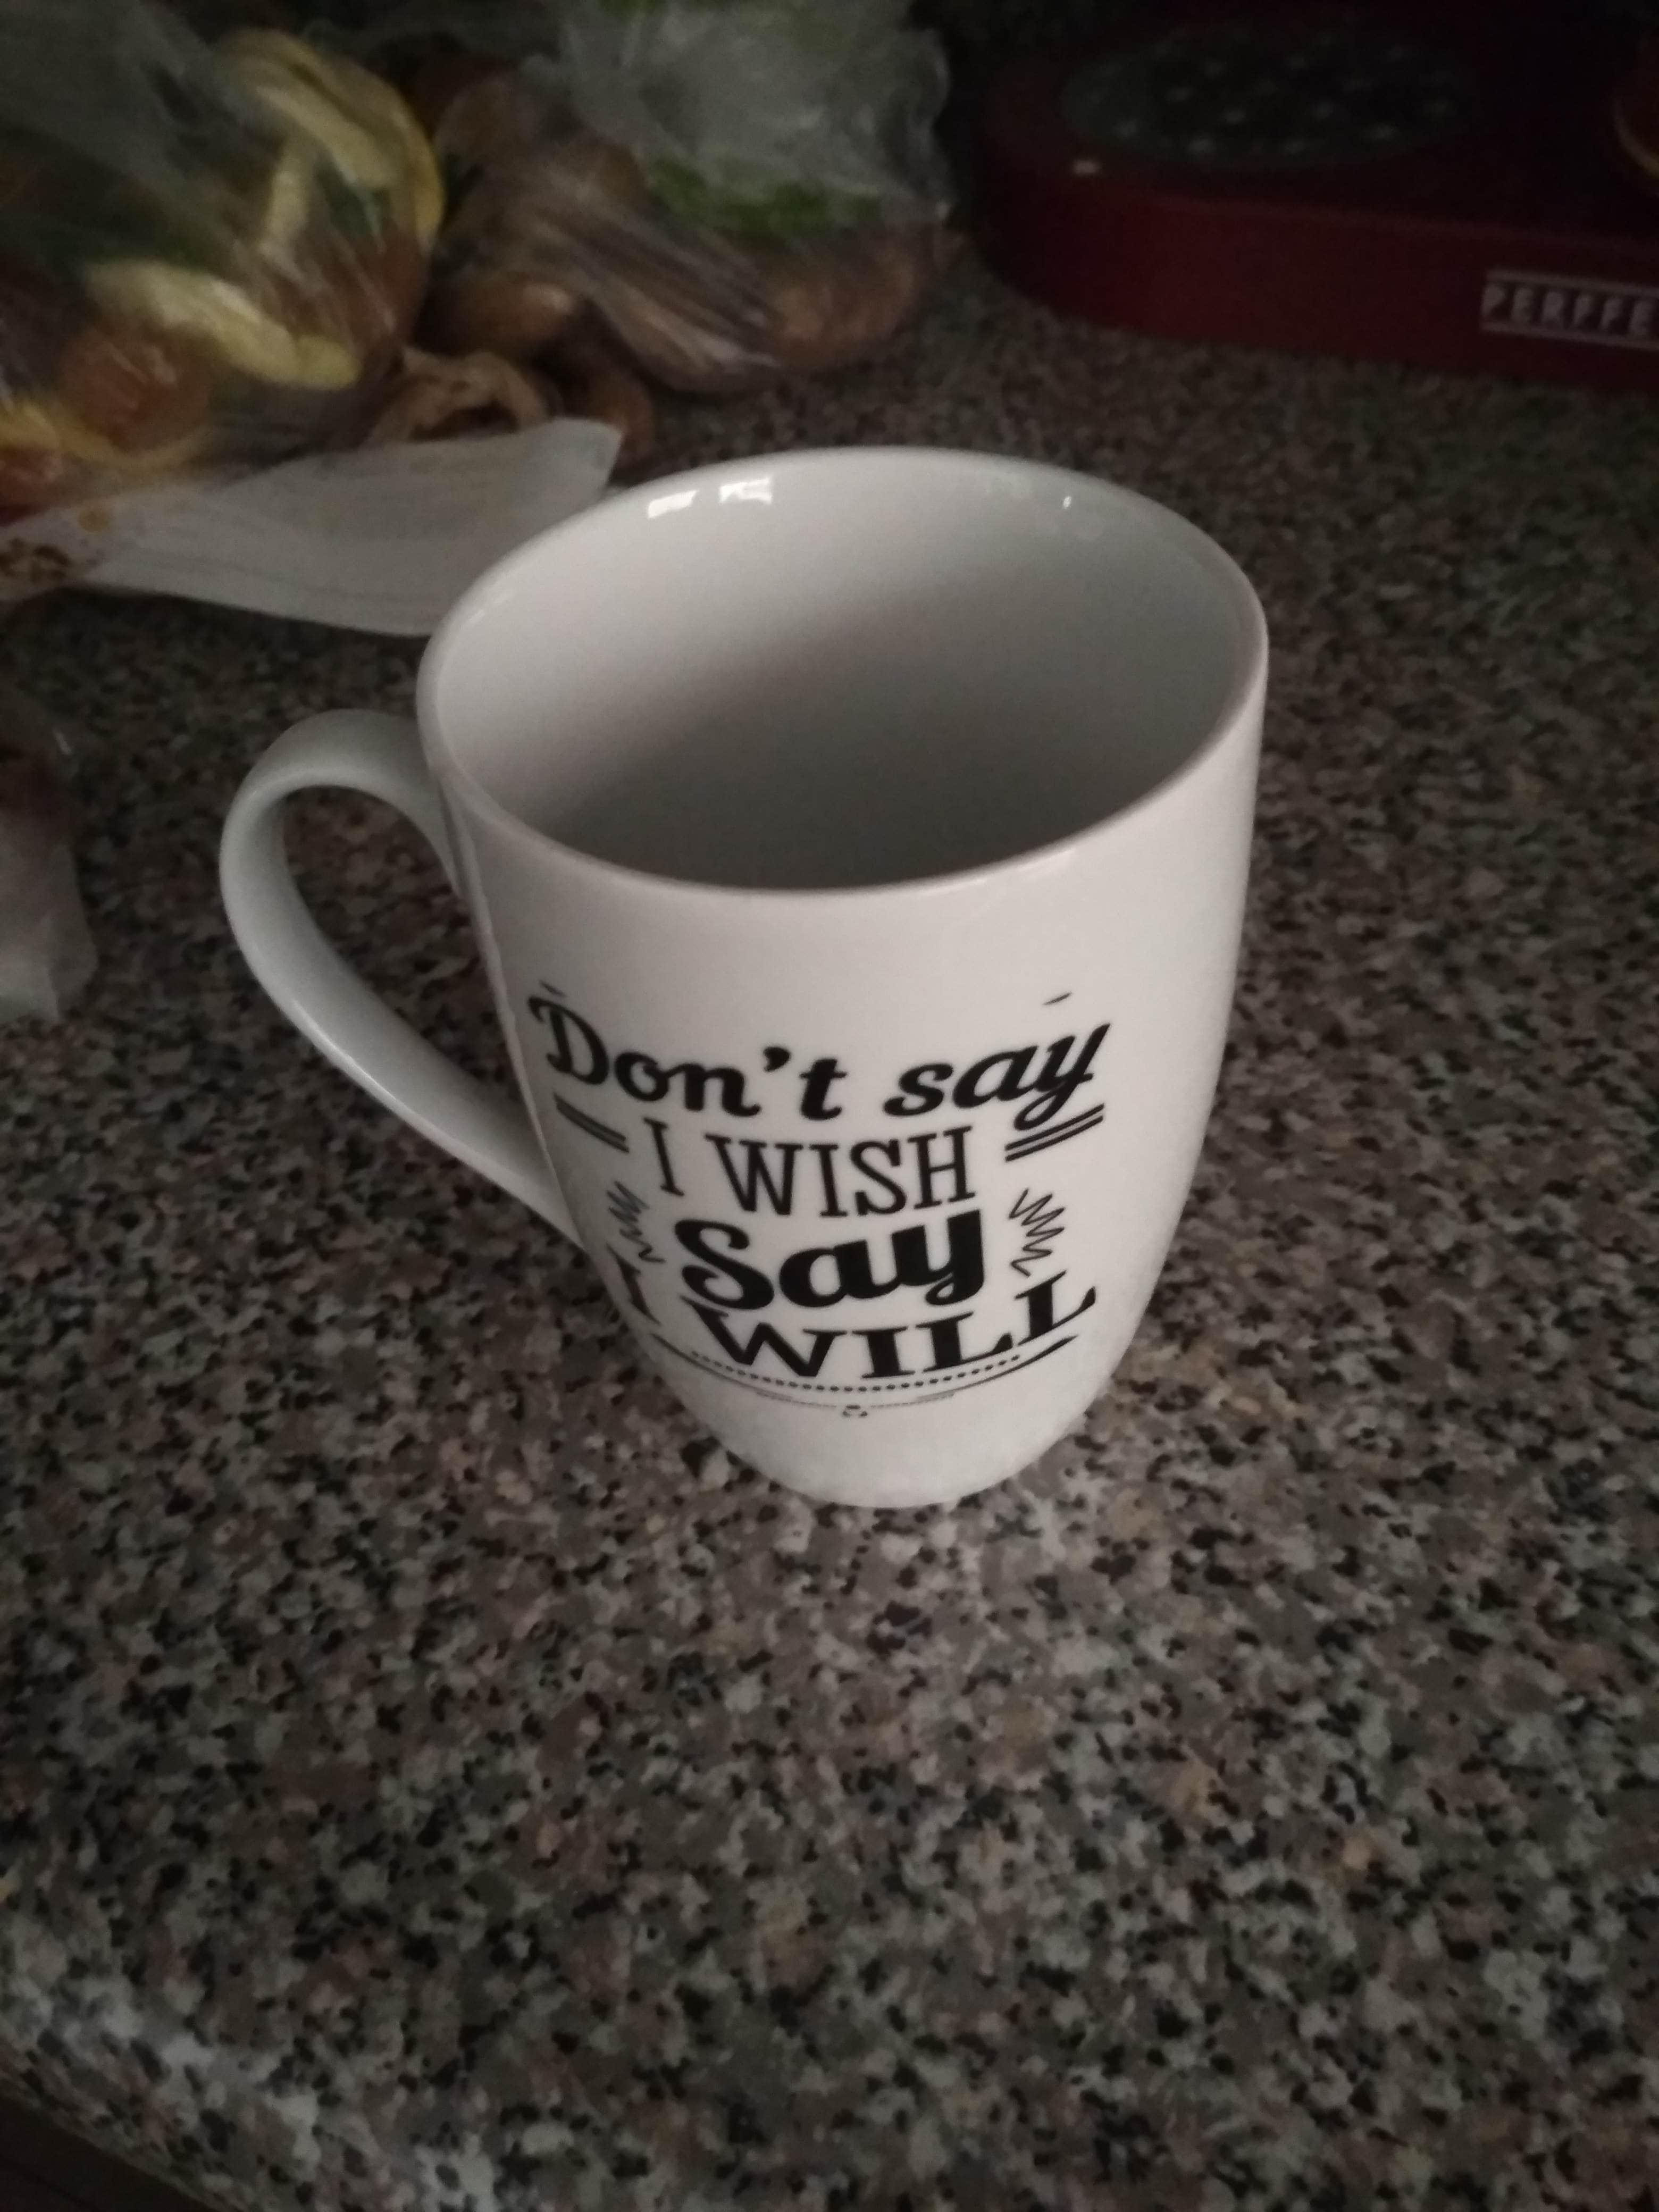cup: (213, 421, 1303, 1557)
